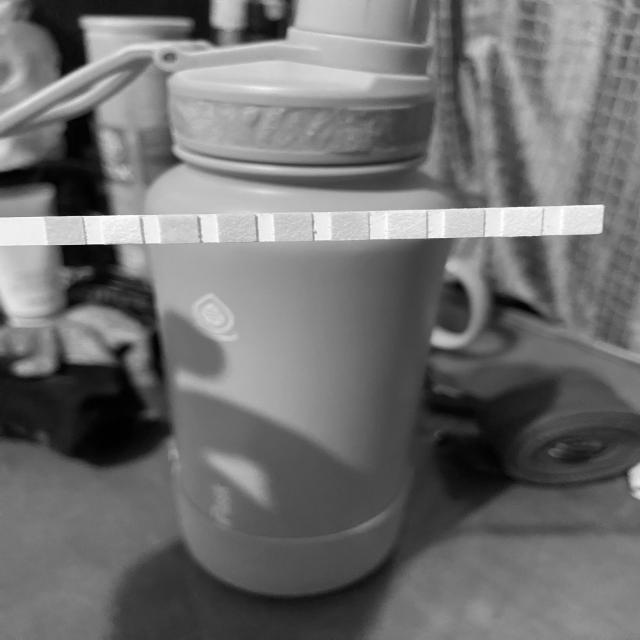Bilirubin: (106, 219, 140, 242)
Blood: (277, 215, 311, 240)
Glucose: (49, 219, 82, 243)
Ketone: (162, 216, 196, 242)
Leukocytes: (565, 207, 599, 233)
Nitrite: (506, 209, 539, 235)
Protein: (390, 212, 424, 238)
SpGravity: (221, 214, 254, 240)
Urobilinogen: (447, 210, 482, 237)
background: (0, 0, 640, 640)
pH: (333, 214, 368, 238)
strip: (0, 205, 605, 248)
